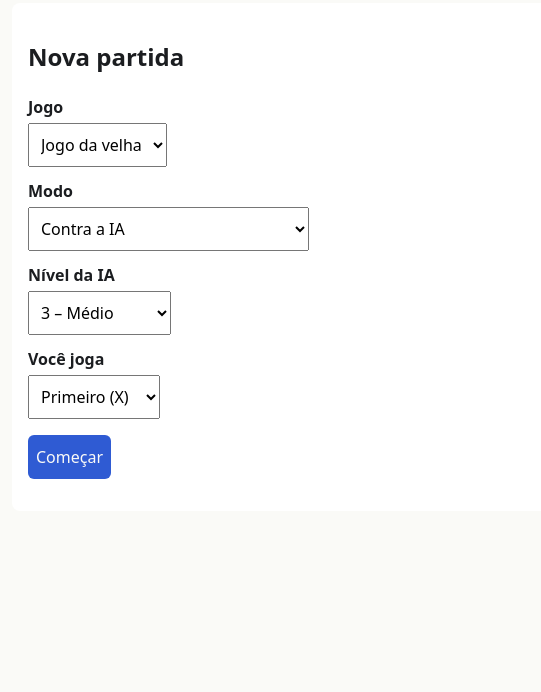
it: partida local sem indicação do servidor não mostra o botão
Click the button "Começar". click: x=70, y=457
box: [28,435,111,479]
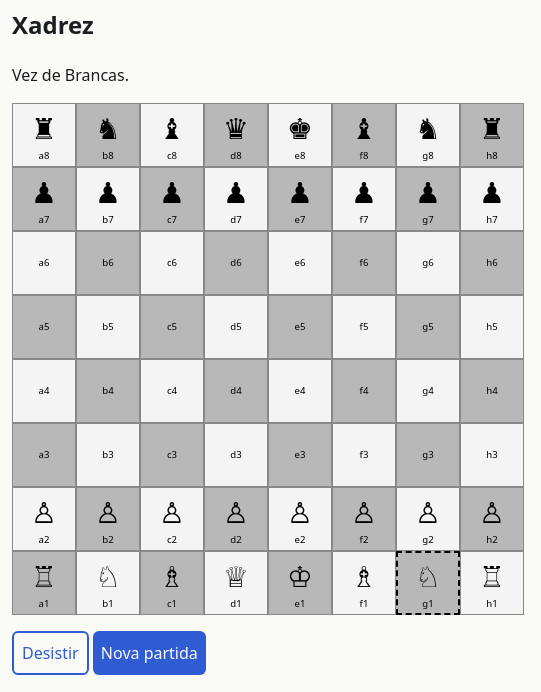
Expected: the button "Desistir" is shown, [12,631,89,675]
